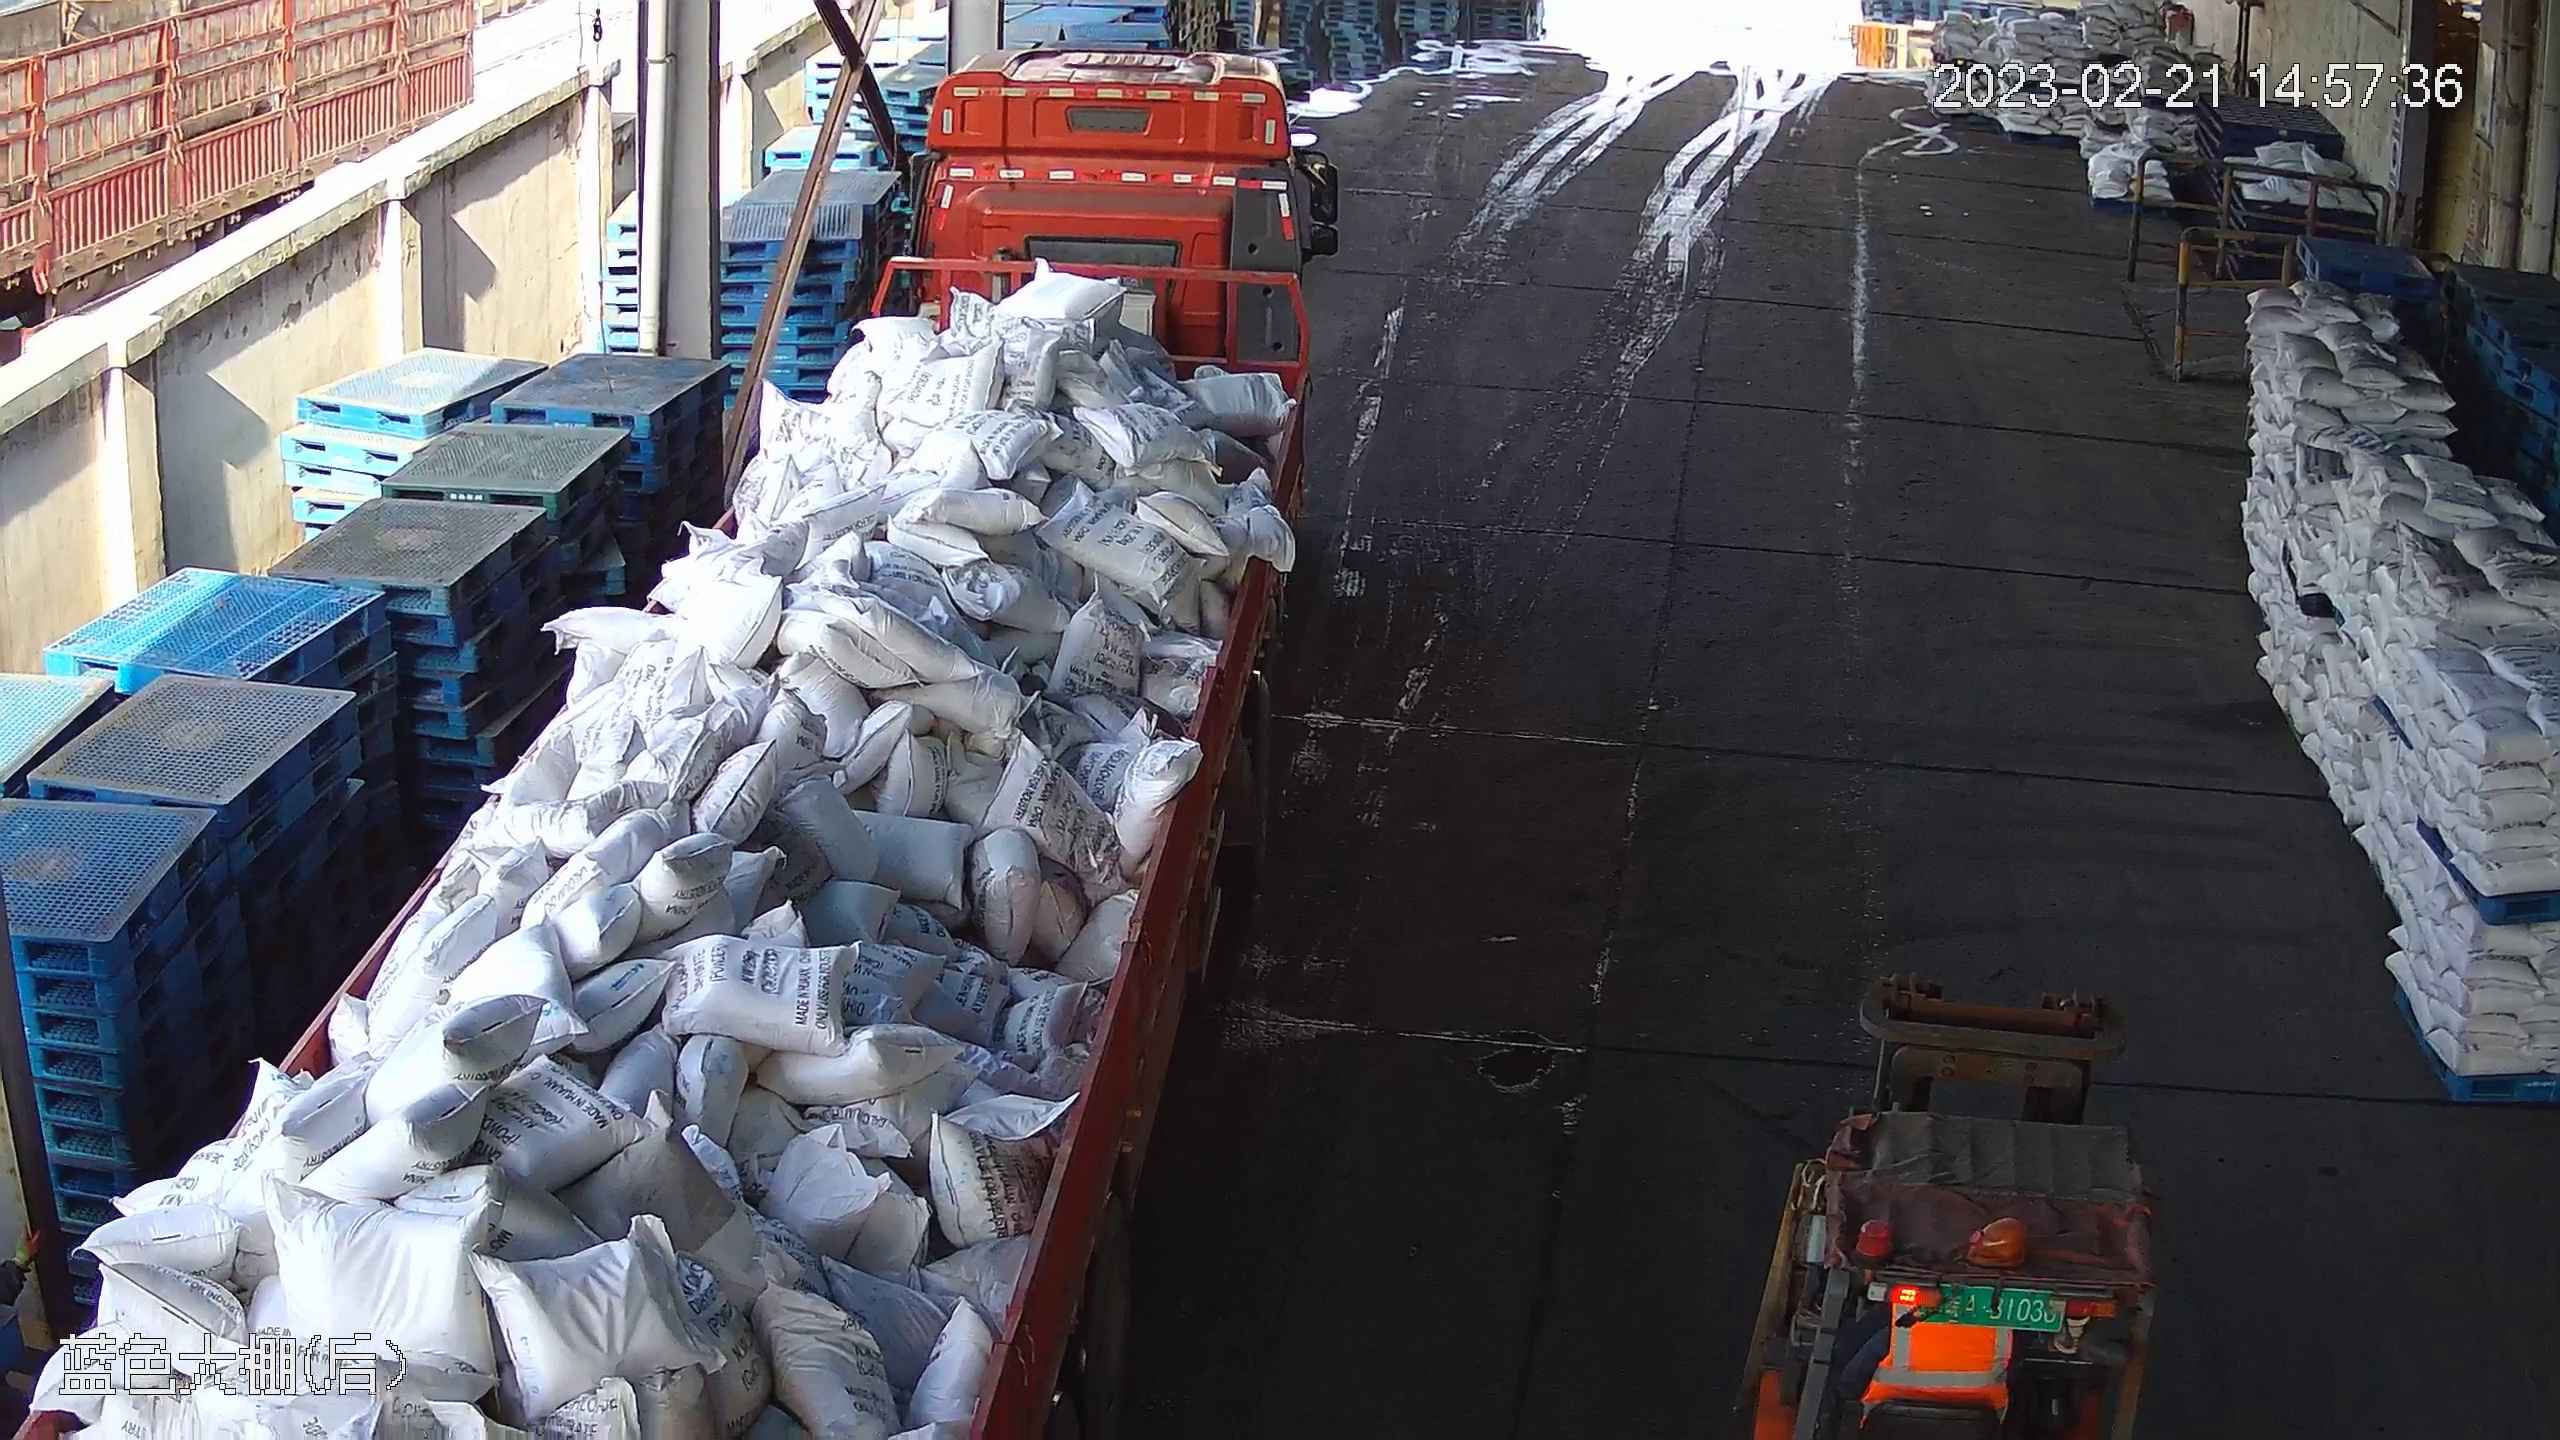truck: (2, 42, 1320, 1440)
